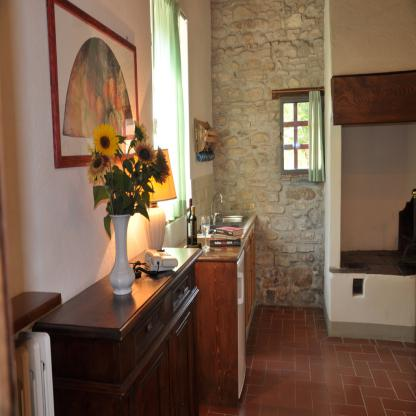vase: (108, 214, 136, 294)
